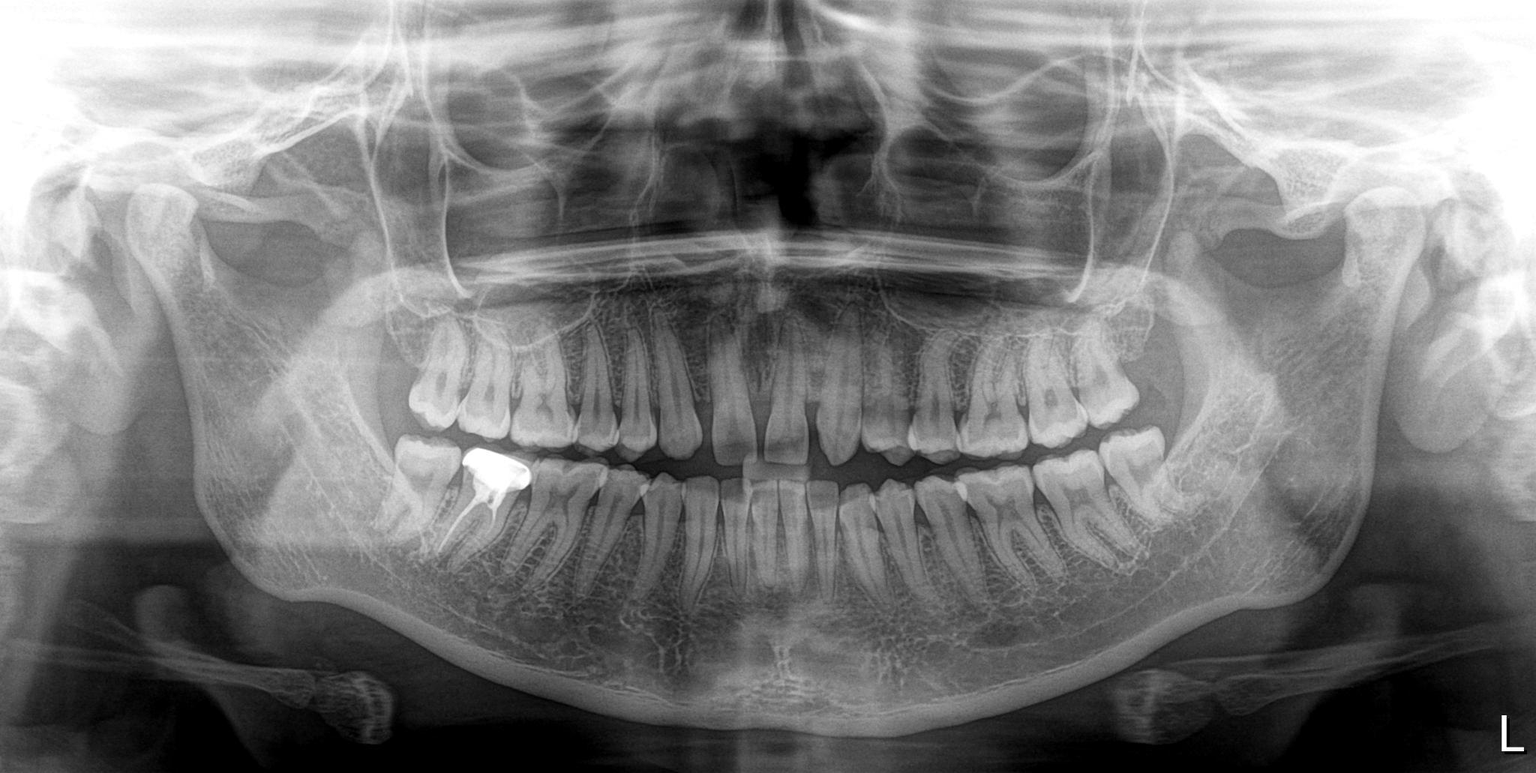Endodontically Treated Tooth: (469, 454, 526, 555)
Periodontal Pocket: (917, 343, 953, 441)
